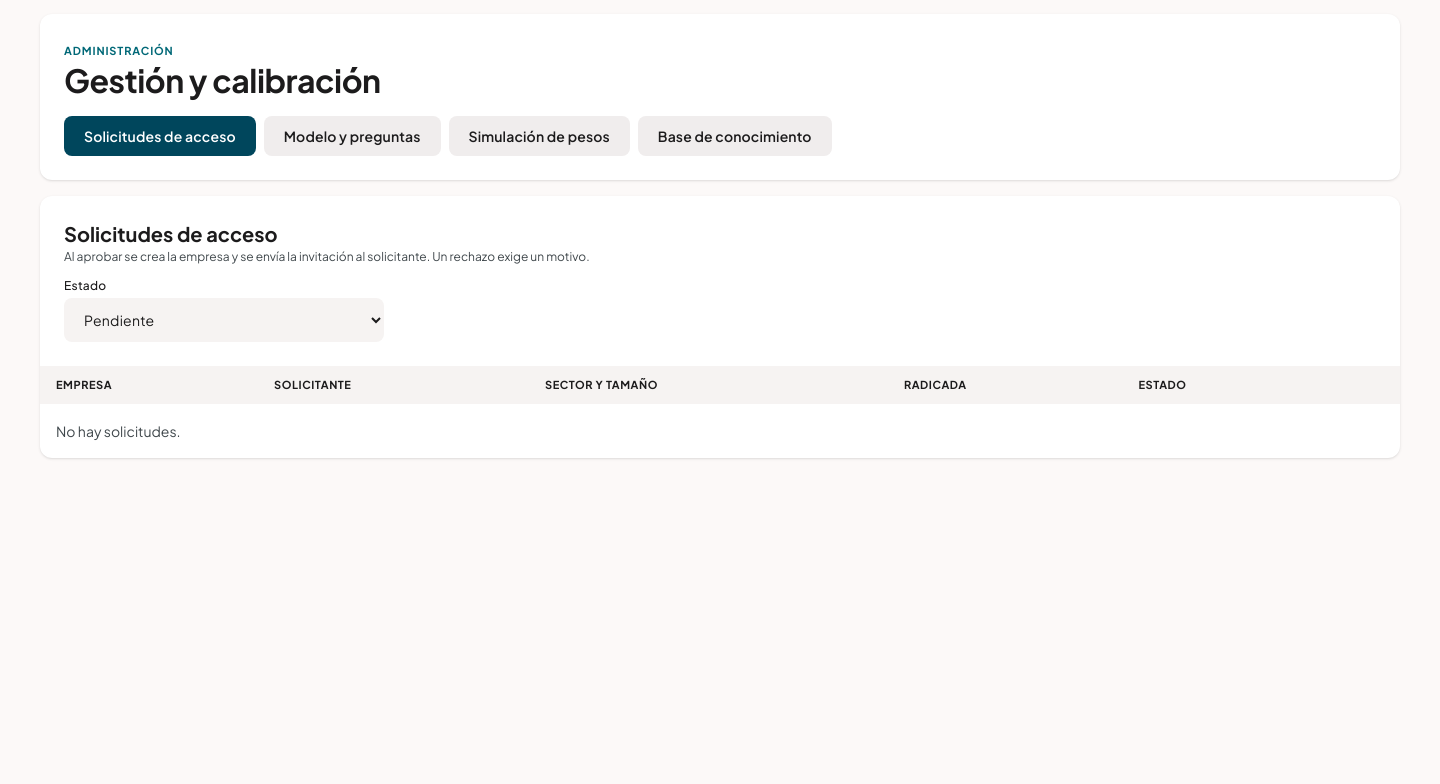
Test: Catálogo de perfiles de cultura › si el servidor rechaza el cambio, el formulario sigue abierto con el motivo
Step 1. Click the tab "Modelo y preguntas" → (352, 136), box [264,116,440,156]
(page scrolled)
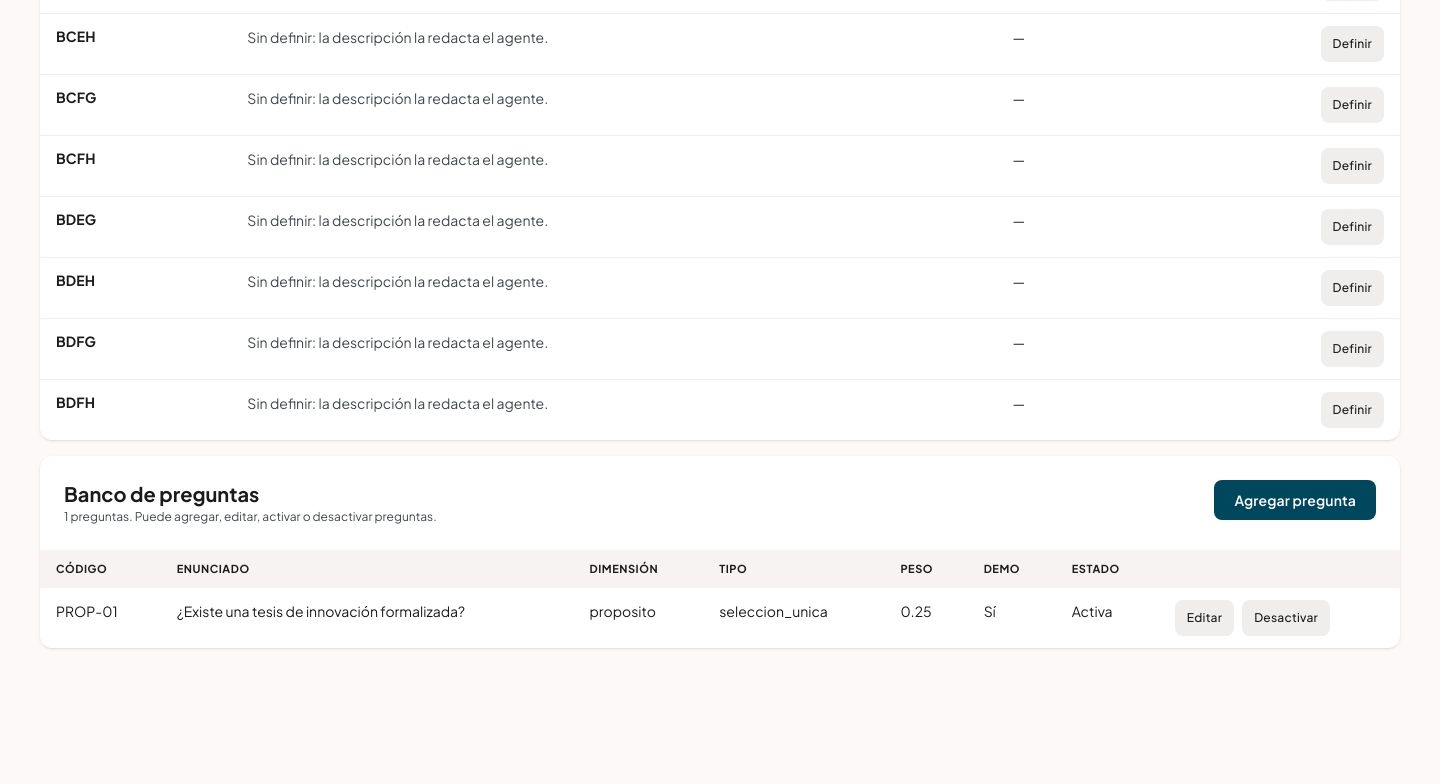
Step 2. Click the button with aria-label "Definir perfil BDFH" → (1352, 410), box [1321,392,1384,428]
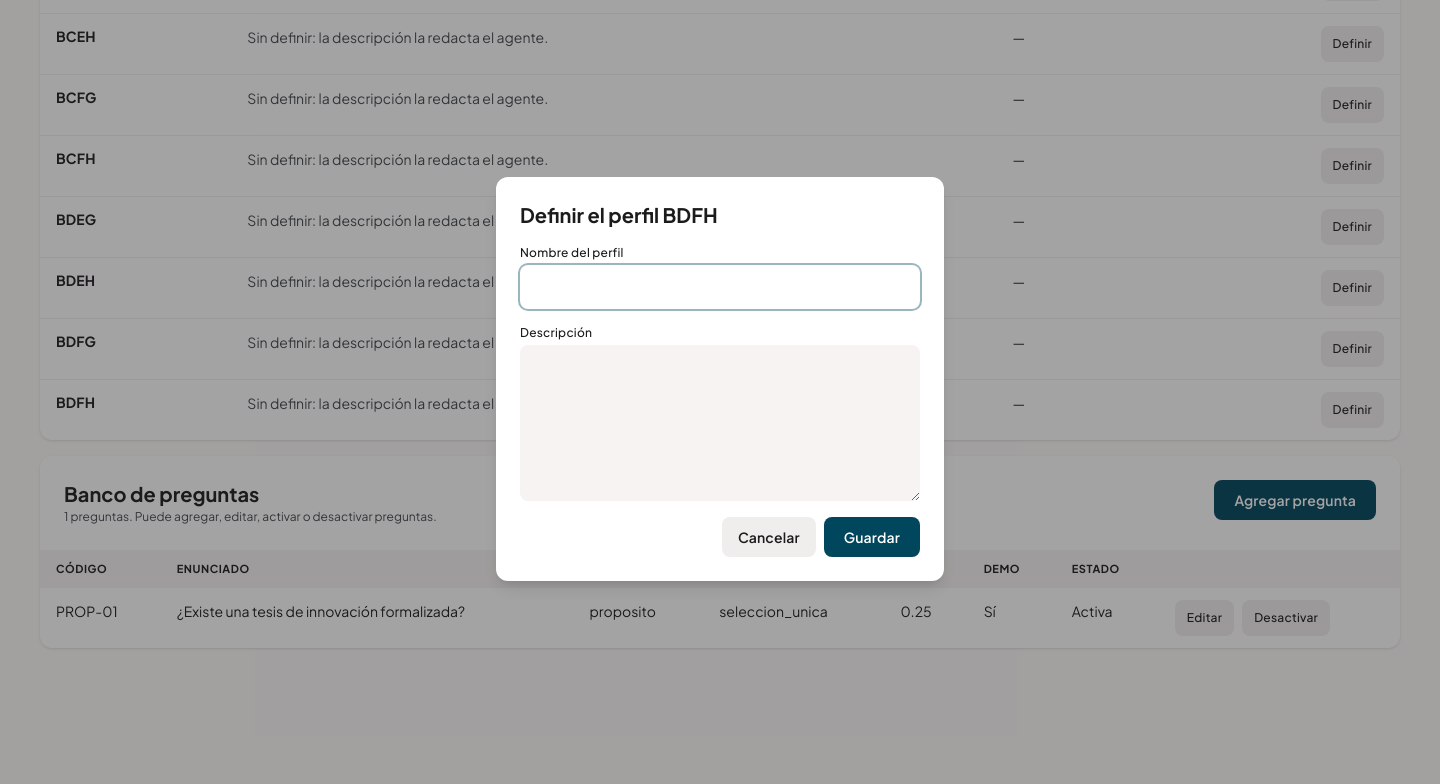
Step 3. Type "X" into the field labelled "Nombre del perfil" → (720, 287), box [520,265,920,309]
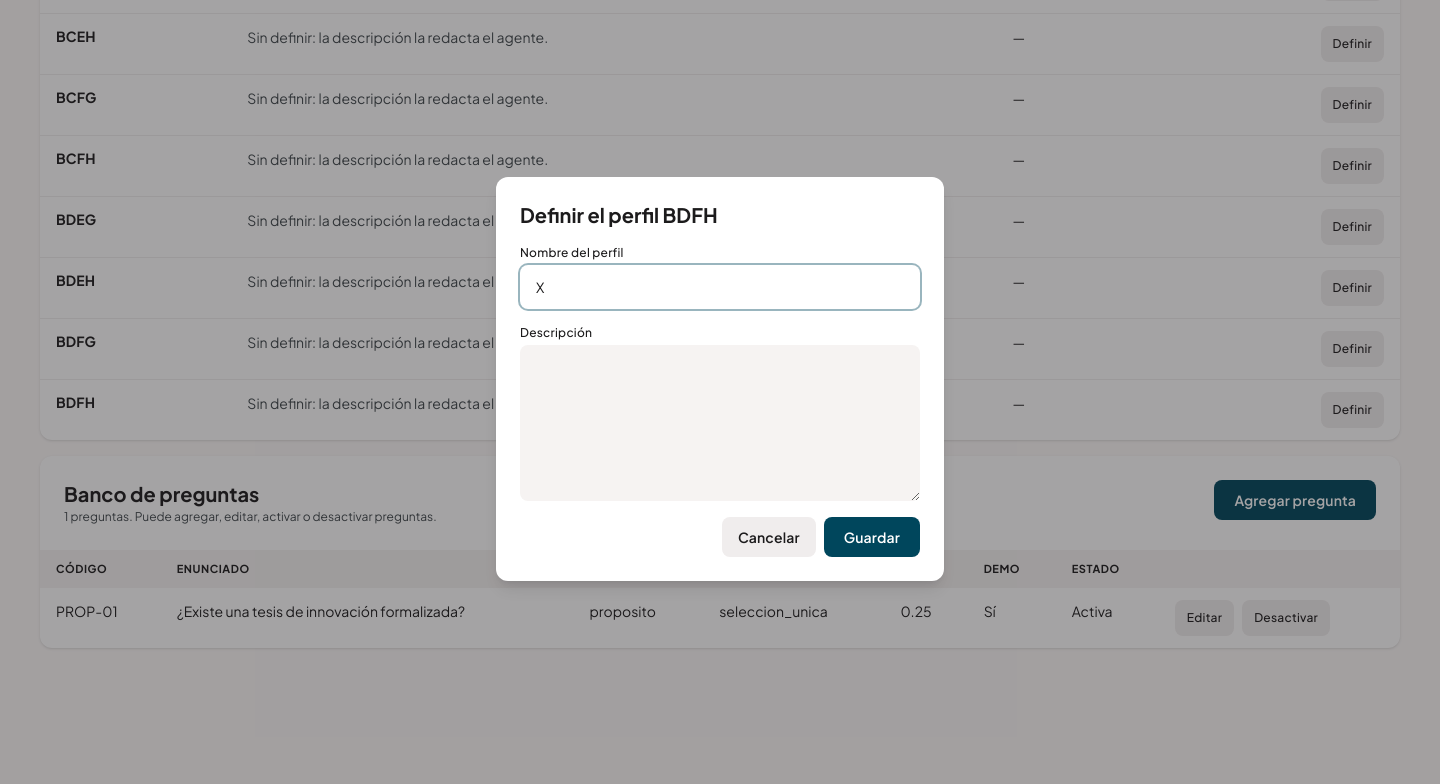
Step 4. Type "Y" into the text box labelled "Descripción" → (720, 423), box [520,345,920,501]
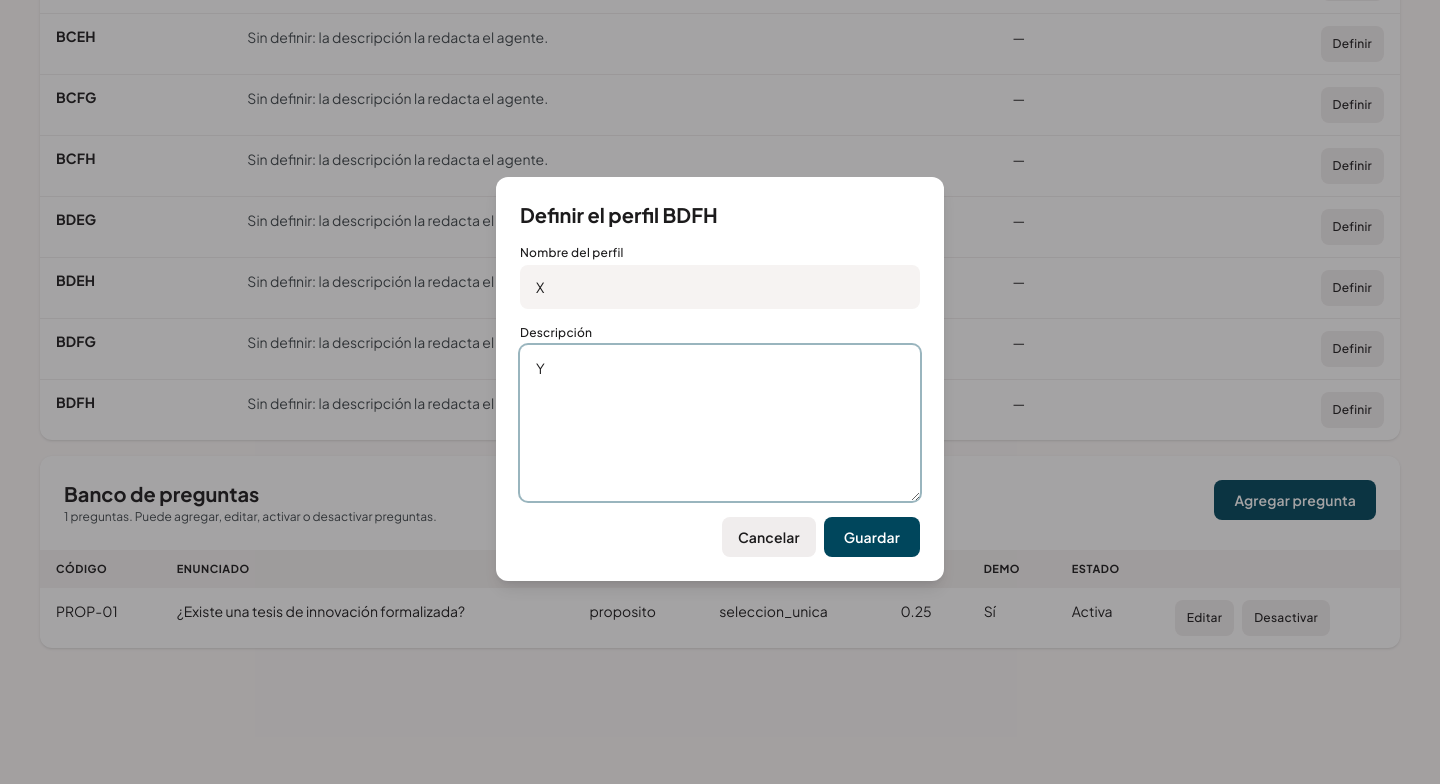
Step 5. Click the button "Guardar" → (872, 537), box [824,517,920,557]
(page scrolled)
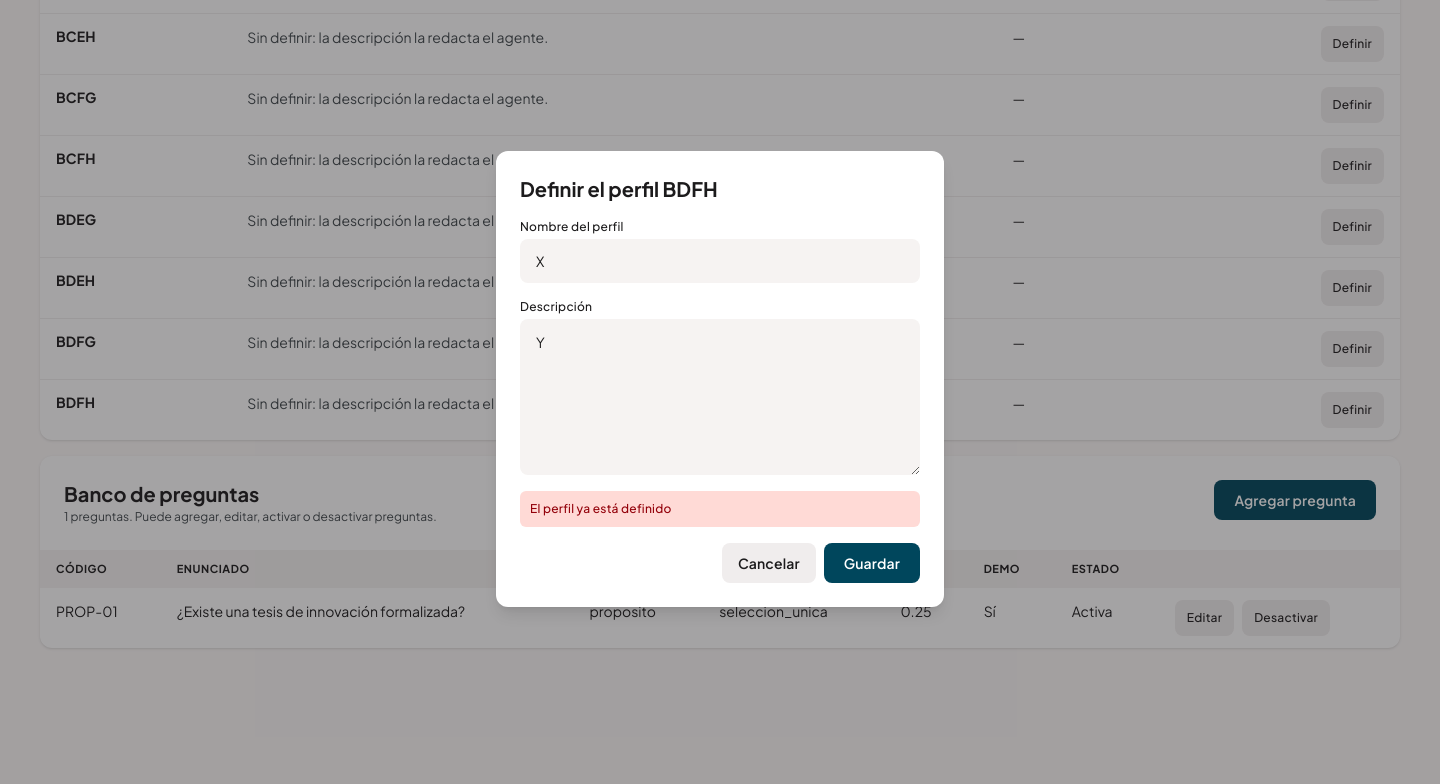
expect the dialog is shown: met, box [496,151,944,607]
expect the message reads "El perfil ya está definido": met, box [530,501,672,516]
